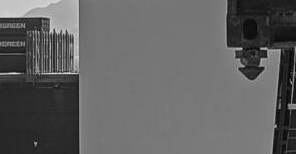twist_lock_2: (227, 41, 272, 83)
